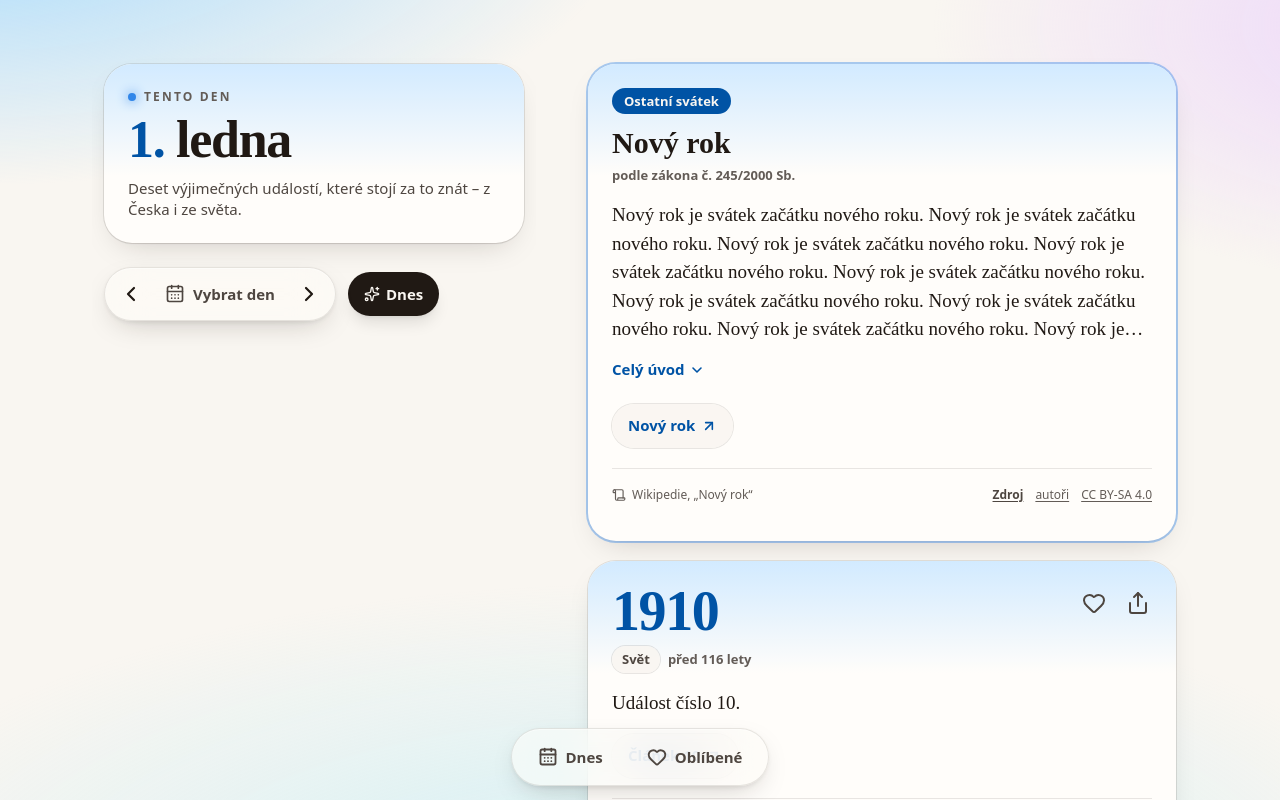
Test: Den › dlouhý úvod svátku je celý v textu, jen složený na pět řádků s tlačítkem
Click the button "Celý úvod": (658, 370) [612, 348, 705, 392]
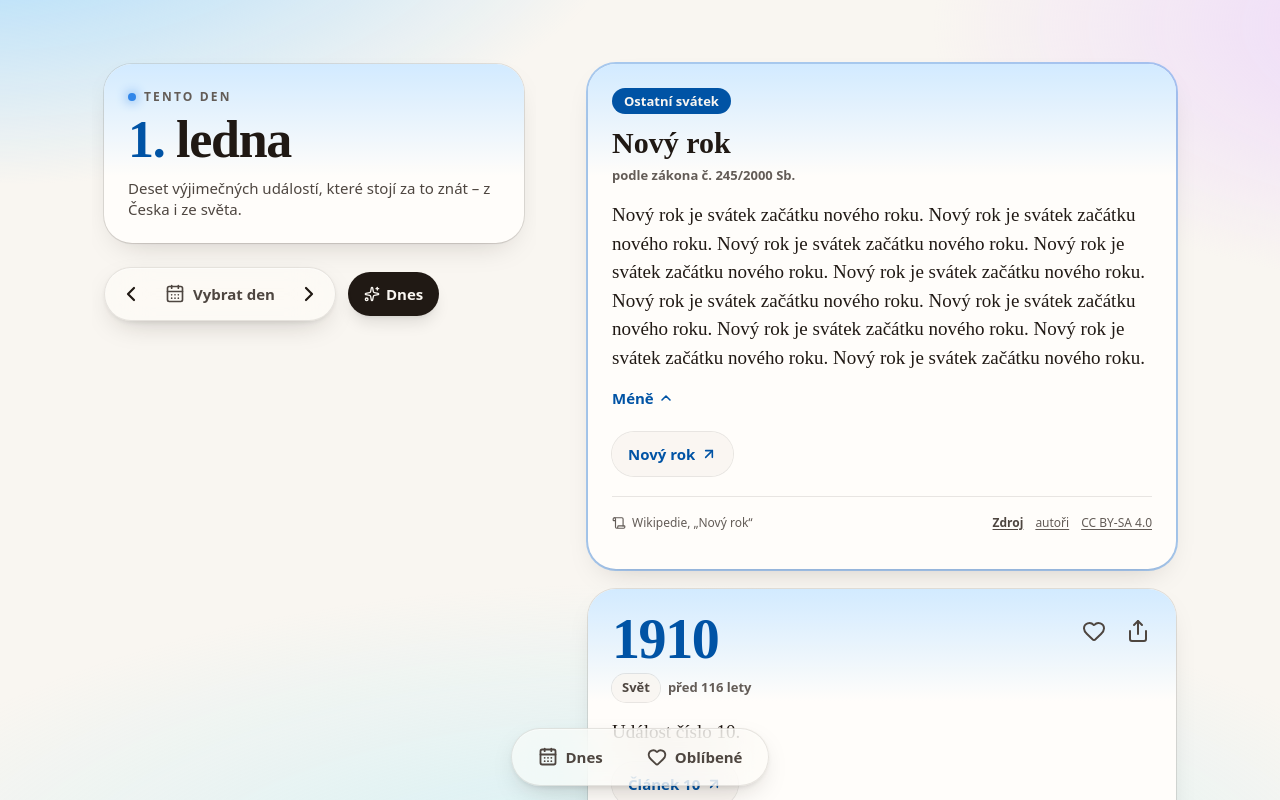
Expected: the button "Méně" is expanded, [612, 376, 674, 420]
